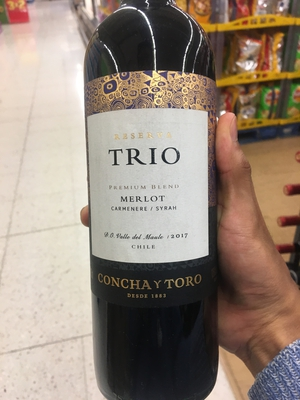trio merlot: (71, 16, 219, 390)
